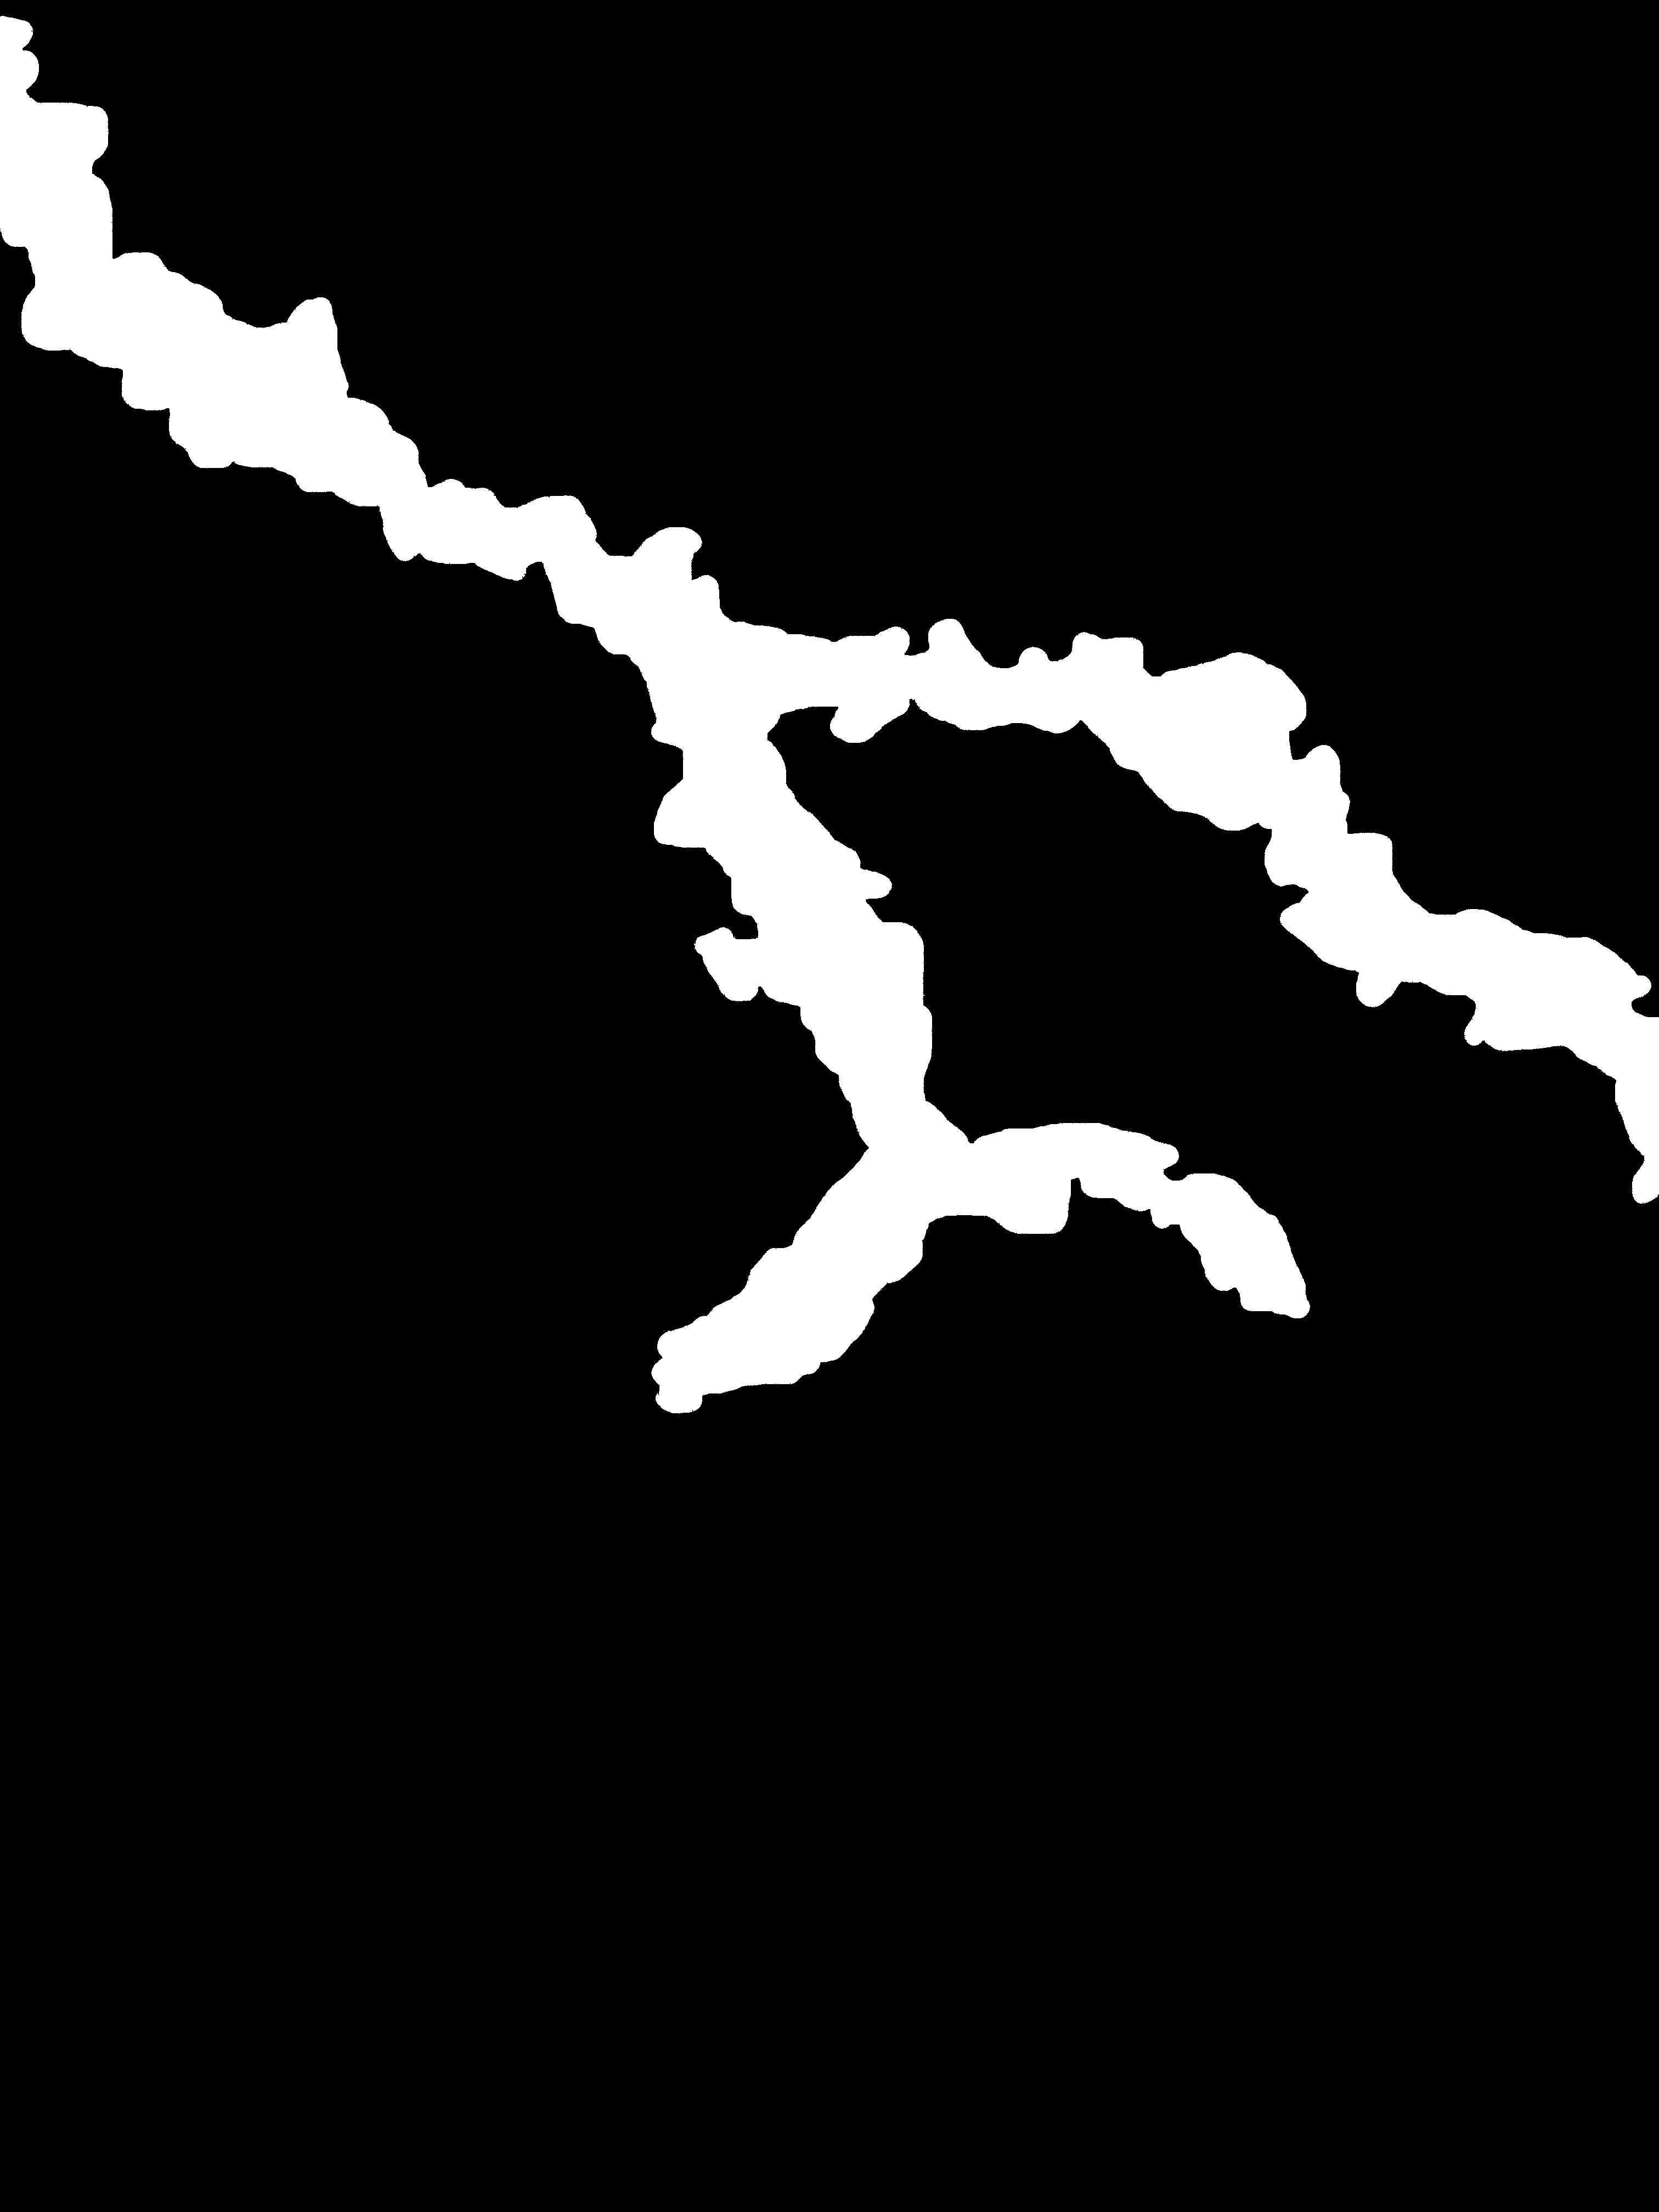Crack: (0, 0, 1659, 1472)
